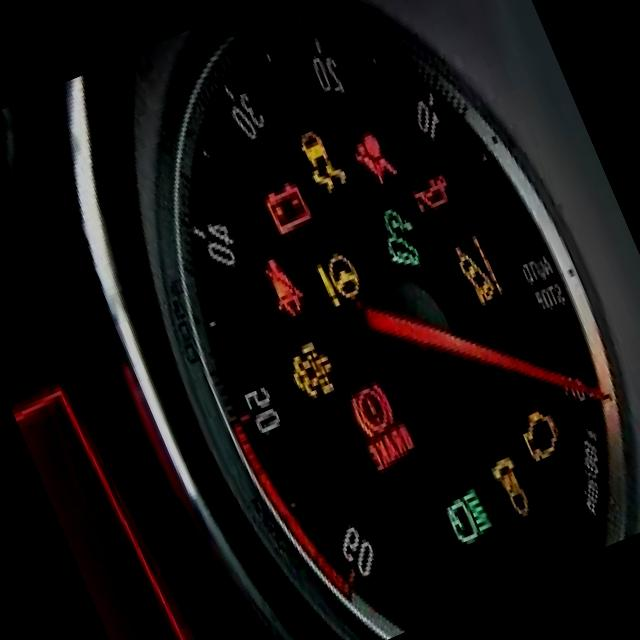kontrolka: (328, 361, 431, 490), (428, 472, 506, 559), (504, 394, 576, 482), (287, 116, 355, 205), (306, 236, 374, 322), (248, 170, 320, 248), (344, 124, 406, 200), (404, 161, 458, 222)
